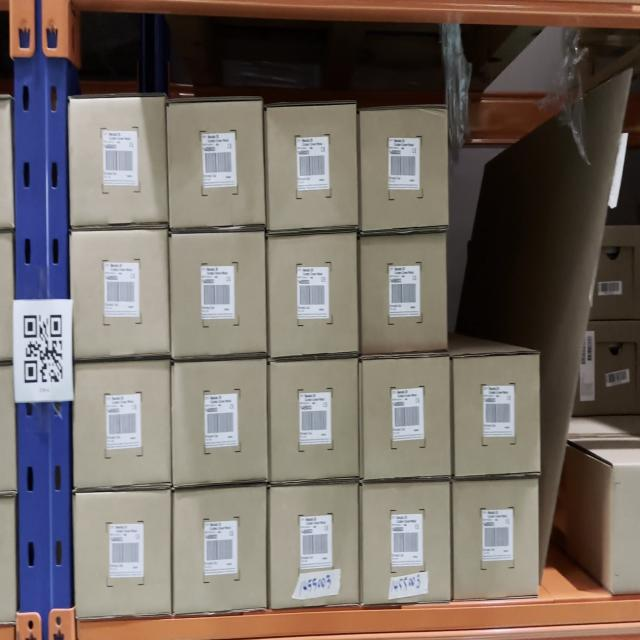box: (71, 99, 165, 228), (74, 363, 169, 488), (72, 235, 169, 356), (74, 496, 172, 614), (170, 103, 263, 227), (174, 362, 266, 482), (171, 238, 266, 352), (173, 493, 266, 608), (269, 107, 356, 227), (362, 357, 448, 478), (271, 361, 357, 481), (454, 354, 538, 476), (270, 489, 358, 604), (361, 488, 451, 600), (269, 240, 357, 352), (363, 111, 447, 227), (453, 482, 538, 596), (362, 238, 447, 348)
